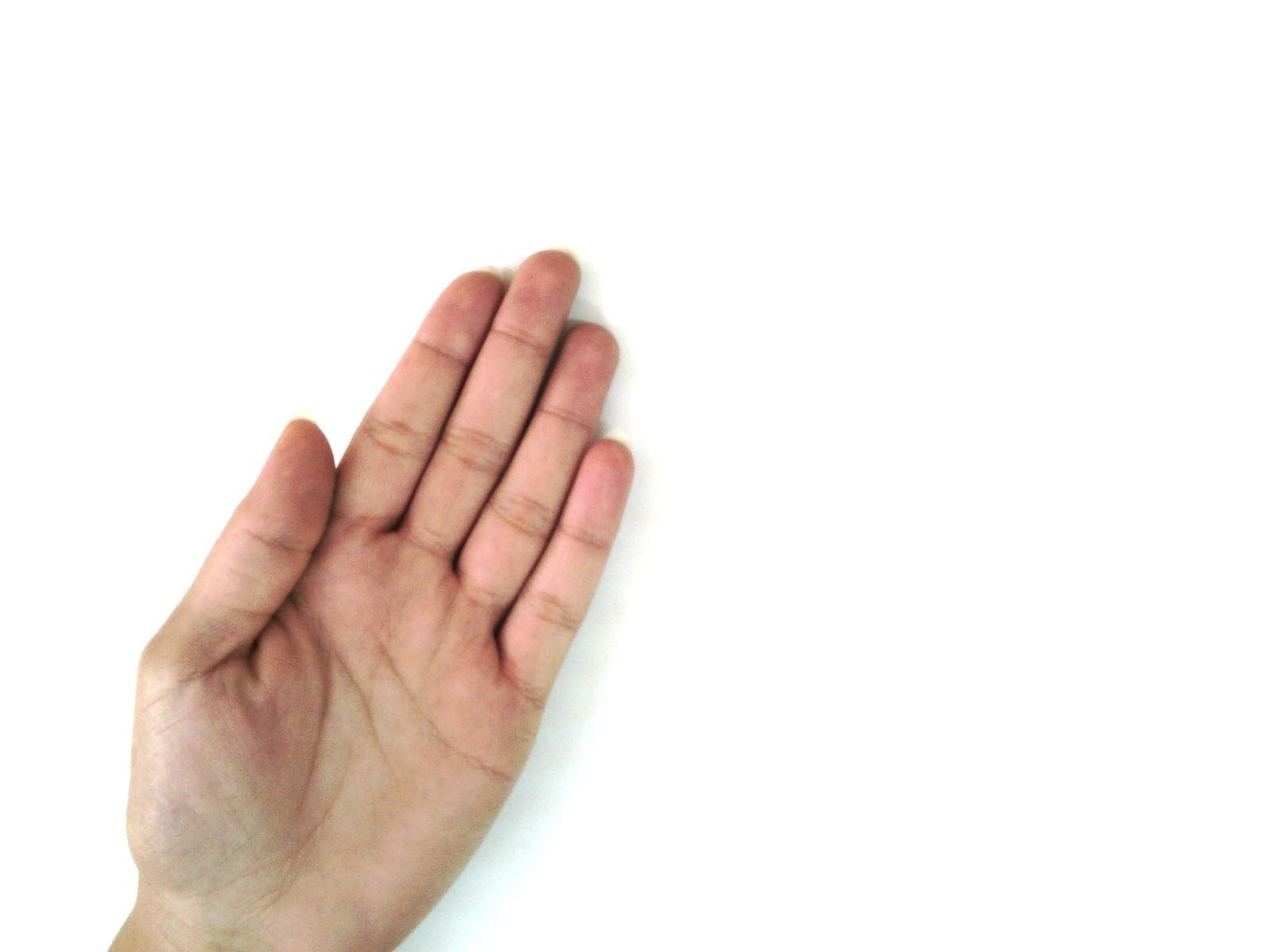open_palm: (110, 248, 638, 951)
